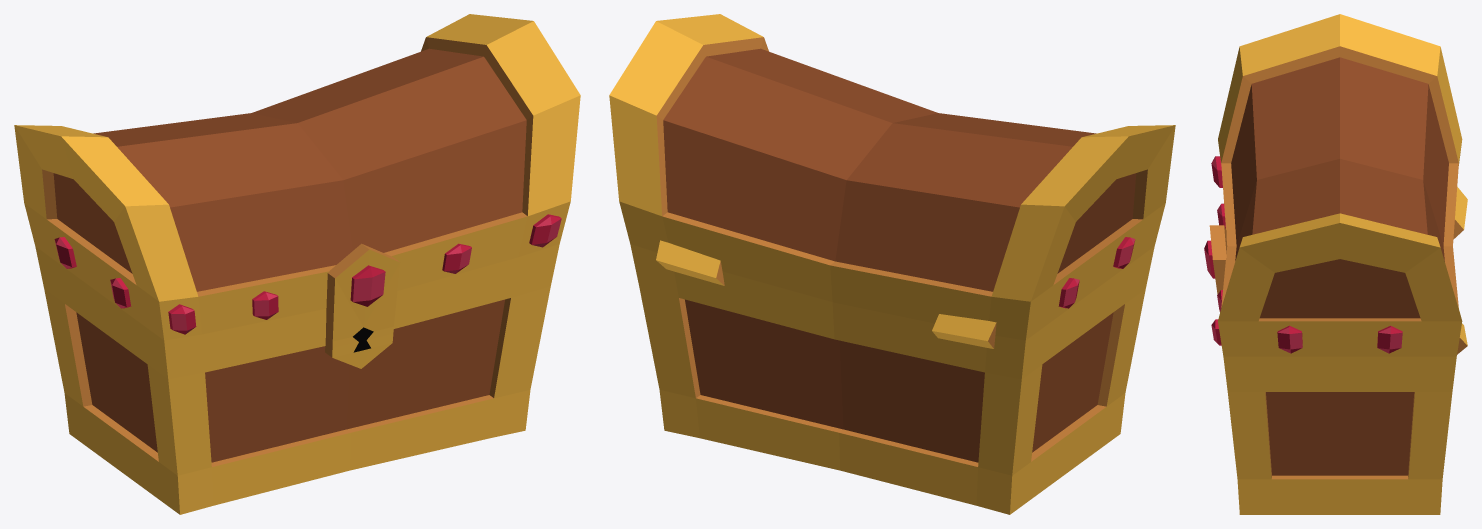
Rendered from Mesh_TreasureChest_A_Closed.fbx.
3 views of the same model, side by side, from view 1: azimuth 30°, elevation 25°; view 2: azimuth 150°, elevation 25°; view 3: azimuth 270°, elevation 25° (orthographic). The views are drawn at different scales.
Parts seen in each view (by area): view 1: SM_TreasureChest_A_Closed; view 2: SM_TreasureChest_A_Closed; view 3: SM_TreasureChest_A_Closed.
Part boxes in pixels (bbox=[...]): SM_TreasureChest_A_Closed: bbox=[14, 14, 580, 514]; SM_TreasureChest_A_Closed: bbox=[609, 14, 1175, 514]; SM_TreasureChest_A_Closed: bbox=[1204, 14, 1467, 514].
Size of the model in its own units: 1.31 by 0.9392 by 0.7011.
